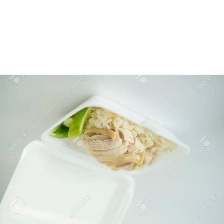foam_box: (0, 90, 196, 224)
